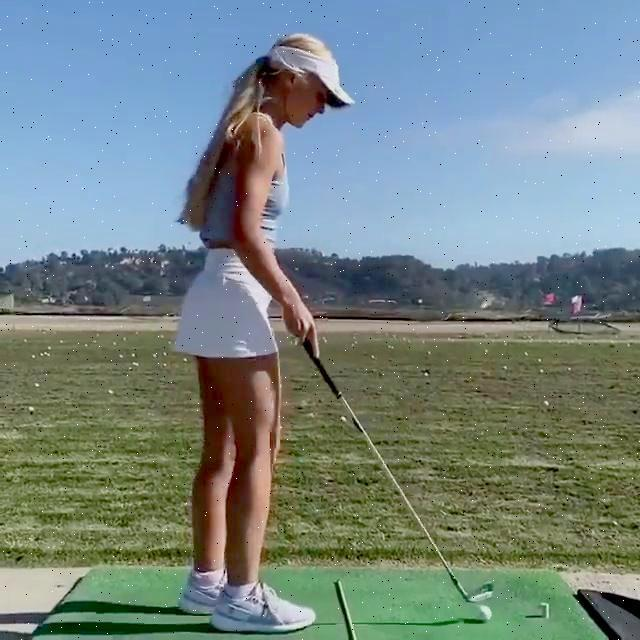ClubHead: (467, 579, 495, 603)
GolfBall: (477, 604, 492, 620)
